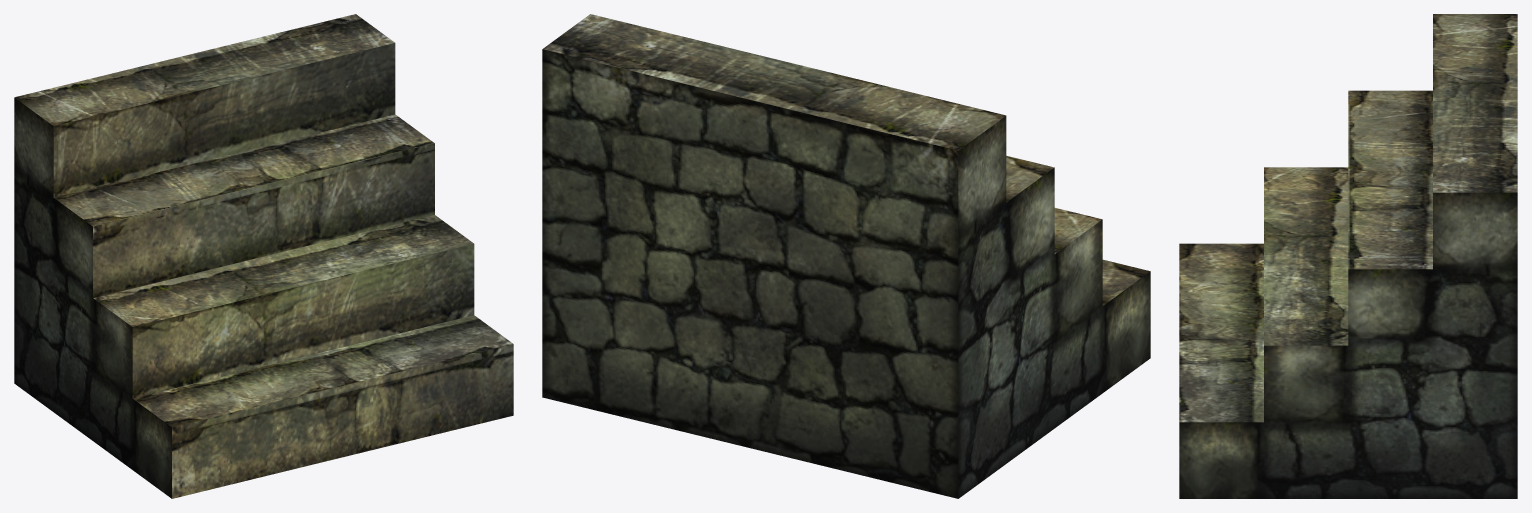
Rendered from stair.glb.
3 renders of one model, left to right at view 1: azimuth 30°, elevation 25°; view 2: azimuth 150°, elevation 25°; view 3: azimuth 270°, elevation 25°, orthographic. The views are drawn at different scales.
Parts seen in each view (by area): view 1: Stair; view 2: Stair; view 3: Stair.
Part boxes in pixels (<box>): Stair: <box>14,14,513,498</box>; Stair: <box>542,14,1150,498</box>; Stair: <box>1179,14,1517,498</box>.
Size of the model in its own units: 1 by 0.8 by 0.8.
Materials: 1 (1 with a texture image).
